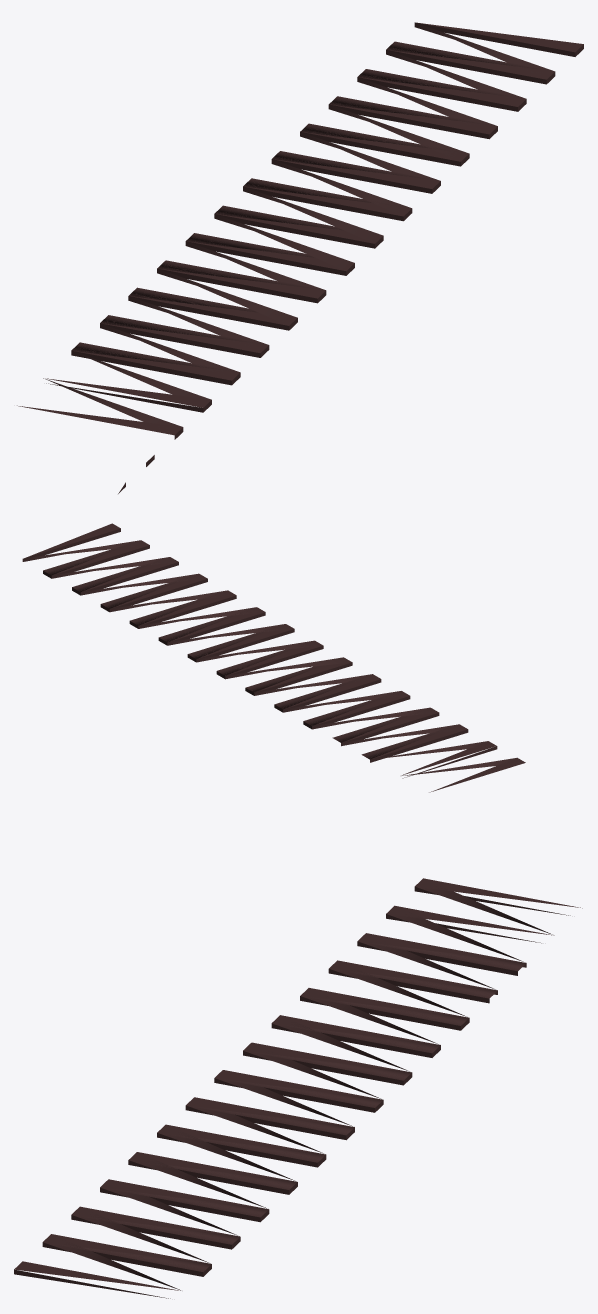
3 renders of one model, top to bottom at view 1: azimuth 90°, elevation 25°; view 2: azimuth 150°, elevation 25°; view 3: azimuth 270°, elevation 25°, orthographic. The views are drawn at different scales.
Size of the model in its own units: 13.68 by 0.064 by 6.92.
